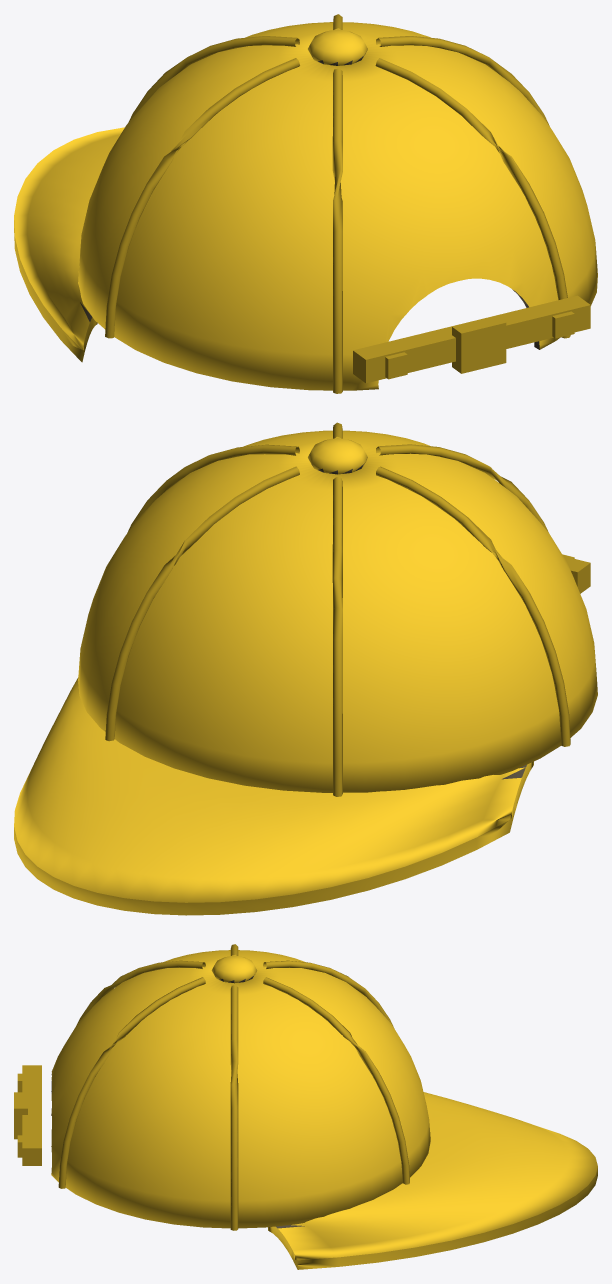
The model's file is hat_back.glb.
3 renders of one model, top to bottom at view 1: azimuth 30°, elevation 25°; view 2: azimuth 150°, elevation 25°; view 3: azimuth 270°, elevation 25°, orthographic. The views are drawn at different scales.
Parts seen in each view (by area): view 1: hat_cap_q; view 2: hat_cap_q; view 3: hat_cap_q.
Boxes of the visible parts, x1,y1,x2,y2 form: hat_cap_q: [14, 14, 597, 393]; hat_cap_q: [14, 422, 597, 915]; hat_cap_q: [14, 944, 597, 1269].
Bounding box in the file's own units: 2.31 × 1.46 × 3.33.
